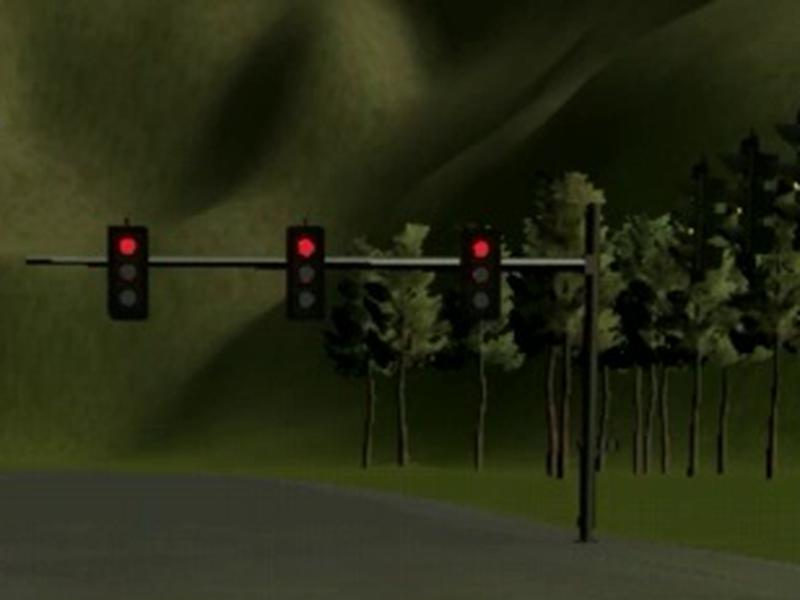Red: (107, 226, 149, 321), (287, 226, 325, 321), (461, 229, 500, 321)
